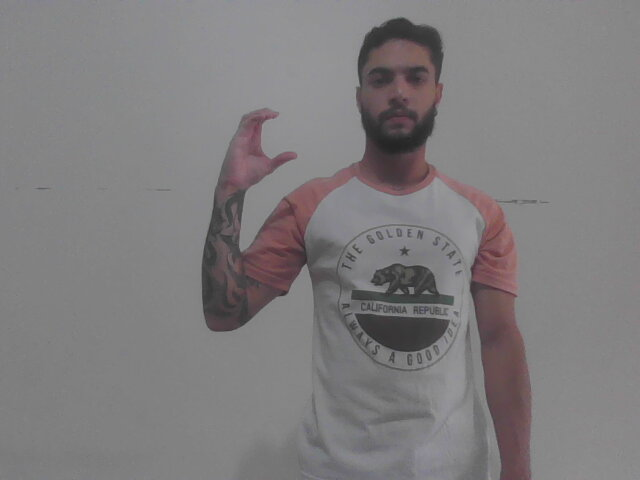c: (212, 103, 300, 195)
